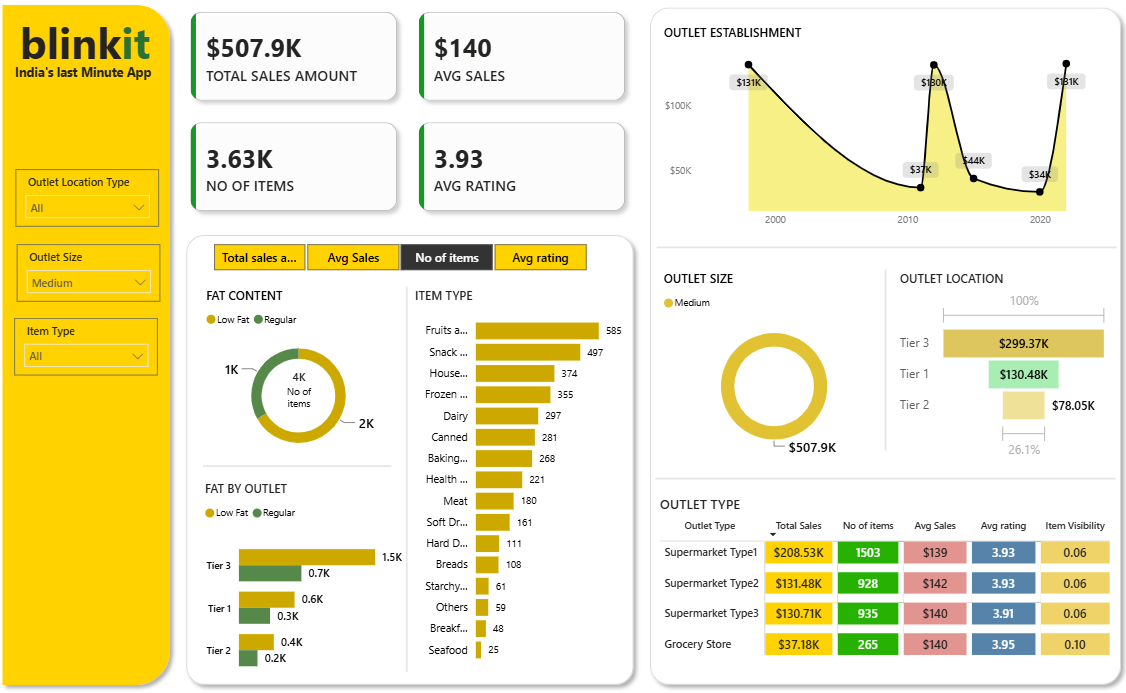

This screenshot's page, from the dashboard's own definition file:
{"tool":"powerbi","page":{"name":"Page 1","canvas":[1300,820],"ordinal":0},"visuals":[{"type":"shape","box":[18.1,26.5,204.9,776.3],"z":0},{"type":"textbox","box":[41.8,39,207.7,92],"z":1000},{"type":"textbox","box":[36.2,96.2,207.7,40.4],"z":2000},{"type":"cardVisual","fields":{"Data":["BlinkIT_Cleaned.Total sales amount","BlinkIT_Cleaned.Avg Sales","BlinkIT_Cleaned.No of items","BlinkIT_Cleaned.Avg rating"]},"box":[220.2,26.5,519.8,256.4],"z":3000},{"type":"shape","box":[223,282.9,517,519.8],"z":4000},{"type":"slicer","fields":{"Values":["Metrics.Metrics"]},"box":[236.9,291.3,465.5,47.4],"z":5000},{"type":"donutChart","title":"FAT CONTENT","fields":{"Y":["BlinkIT_Cleaned.Avg Sales"],"Category":["BlinkIT_Cleaned.Item Fat Content"]},"box":[249.5,349.8,216,197.9],"z":5000},{"type":"cardVisual","fields":{"Data":["BlinkIT_Cleaned.Avg Sales"]},"box":[324.7,437.6,66.9,54.4],"z":6001},{"type":"clusteredBarChart","title":"FAT BY OUTLET","fields":{"Y":["BlinkIT_Cleaned.Avg Sales"],"Category":["BlinkIT_Cleaned.Outlet Location Type"],"Series":["BlinkIT_Cleaned.Item Fat Content"]},"box":[248.1,565.8,230,232.7],"z":7000},{"type":"shape","box":[250.9,543.5,210,12.5],"z":8000},{"type":"shape","box":[461.3,349.8,33.4,429.2],"z":9000},{"type":"barChart","title":"ITEM TYPE","fields":{"Y":["BlinkIT_Cleaned.Avg Sales"],"Category":["BlinkIT_Cleaned.Item Type"]},"box":[482.2,349.8,241.1,429.2],"z":10000},{"type":"shape","box":[740,29.3,543.5,773.5],"z":11000},{"type":"lineChart","title":"OUTLET ESTABLISHMENT","fields":{"Y":["BlinkIT_Cleaned.Total sales amount"],"Category":["BlinkIT_Cleaned.Outlet Establishment Year"]},"box":[756.8,57.1,512.9,235.5],"z":12000},{"type":"shape","box":[756.8,299.6,512.9,12.5],"z":13000},{"type":"donutChart","title":"OUTLET SIZE","fields":{"Y":["Sum(BlinkIT_Cleaned.Total Sales)"],"Category":["BlinkIT_Cleaned.Outlet Size"]},"box":[759.5,331.7,256.4,213.2],"z":13001},{"type":"funnel","title":"OUTLET LOCATION","fields":{"Category":["BlinkIT_Cleaned.Outlet Location Type"],"Y":["Sum(BlinkIT_Cleaned.Total Sales)"]},"box":[1022.9,331.7,242.5,214.6],"z":13002},{"type":"shape","box":[995.1,330.3,33.4,202.1],"z":13003},{"type":"shape","box":[755.4,557.5,512.9,12.5],"z":13004},{"type":"pivotTable","title":"OUTLET TYPE","fields":{"Rows":["BlinkIT_Cleaned.Outlet Type"],"Values":["Sum(BlinkIT_Cleaned.Total Sales)","BlinkIT_Cleaned.No of items","BlinkIT_Cleaned.Avg Sales","BlinkIT_Cleaned.Avg rating","Avg(BlinkIT_Cleaned.Item Visibility)"]},"box":[755.4,581.2,528.2,200.7],"z":13005},{"type":"slicer","fields":{"Values":["BlinkIT_Cleaned.Outlet Location Type"]},"box":[41.8,218.8,160.3,64.1],"z":13006},{"type":"slicer","fields":{"Values":["BlinkIT_Cleaned.Outlet Size"]},"box":[43.2,302.4,160.3,64.1],"z":13007},{"type":"slicer","fields":{"Values":["BlinkIT_Cleaned.Item Type"]},"box":[40.4,384.6,160.3,64.1],"z":13008}]}

Visuals, with their boxes in screenshot pixels (x1, y1, x2, y2), scaled from the page's 1300x820 canvas onto the 1126x693 screenshot:
shape: x1=16 y1=22 x2=193 y2=678
textbox: x1=36 y1=33 x2=216 y2=111
textbox: x1=31 y1=81 x2=211 y2=115
cardVisual - BlinkIT_Cleaned.Total sales amount x BlinkIT_Cleaned.Avg Sales: x1=191 y1=22 x2=641 y2=239
shape: x1=193 y1=239 x2=641 y2=678
slicer - Metrics.Metrics: x1=205 y1=246 x2=608 y2=286
"FAT CONTENT" donutChart: x1=216 y1=296 x2=403 y2=463
cardVisual - BlinkIT_Cleaned.Avg Sales: x1=281 y1=370 x2=339 y2=416
"FAT BY OUTLET" clusteredBarChart: x1=215 y1=478 x2=414 y2=675
shape: x1=217 y1=459 x2=399 y2=470
shape: x1=400 y1=296 x2=428 y2=658
"ITEM TYPE" barChart: x1=418 y1=296 x2=626 y2=658
shape: x1=641 y1=25 x2=1112 y2=678
"OUTLET ESTABLISHMENT" lineChart: x1=656 y1=48 x2=1100 y2=247
shape: x1=656 y1=253 x2=1100 y2=264
"OUTLET SIZE" donutChart: x1=658 y1=280 x2=880 y2=461
"OUTLET LOCATION" funnel: x1=886 y1=280 x2=1096 y2=462
shape: x1=862 y1=279 x2=891 y2=450
shape: x1=654 y1=471 x2=1099 y2=482
"OUTLET TYPE" pivotTable: x1=654 y1=491 x2=1112 y2=661
slicer - BlinkIT_Cleaned.Outlet Location Type: x1=36 y1=185 x2=175 y2=239
slicer - BlinkIT_Cleaned.Outlet Size: x1=37 y1=256 x2=176 y2=310
slicer - BlinkIT_Cleaned.Item Type: x1=35 y1=325 x2=174 y2=379
